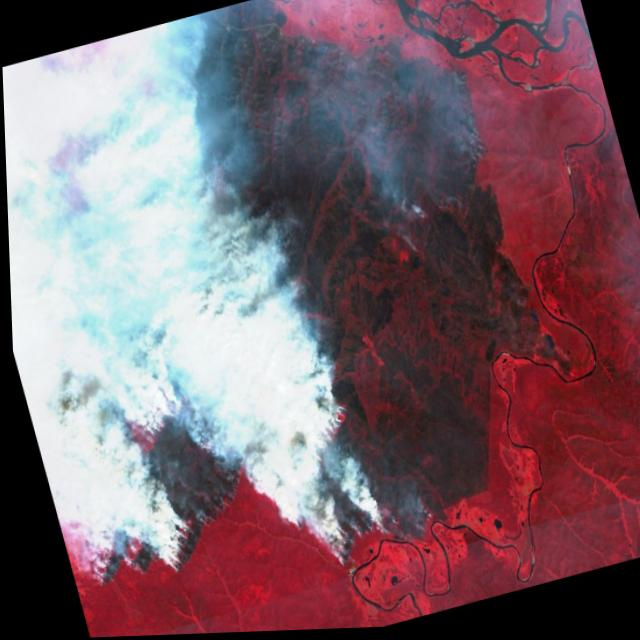fire: (46, 380, 271, 608), (255, 392, 399, 587), (434, 56, 502, 189)
